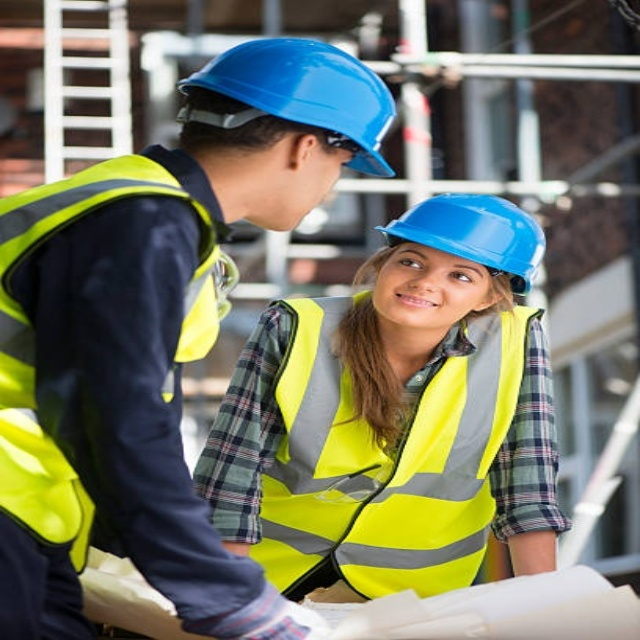Sin_gafas: (395, 247, 493, 285), (309, 140, 361, 184)
Sin_mascara: (386, 288, 455, 319), (287, 191, 328, 235)
